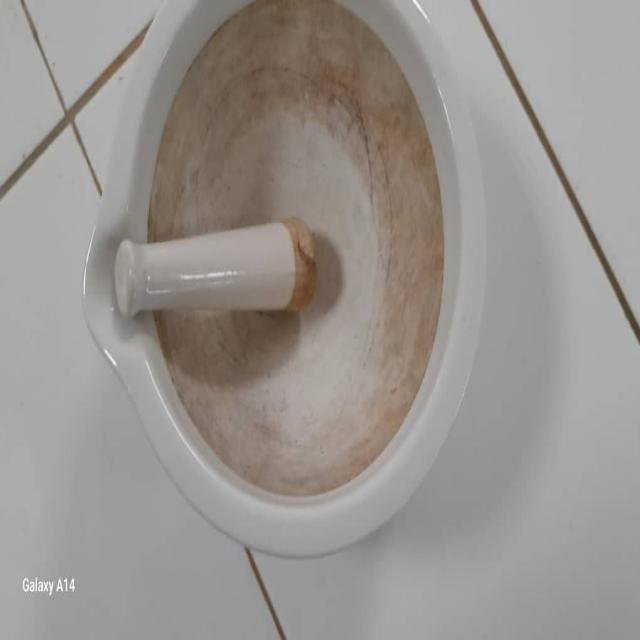Mortar and Pestle: (80, 3, 492, 558)
